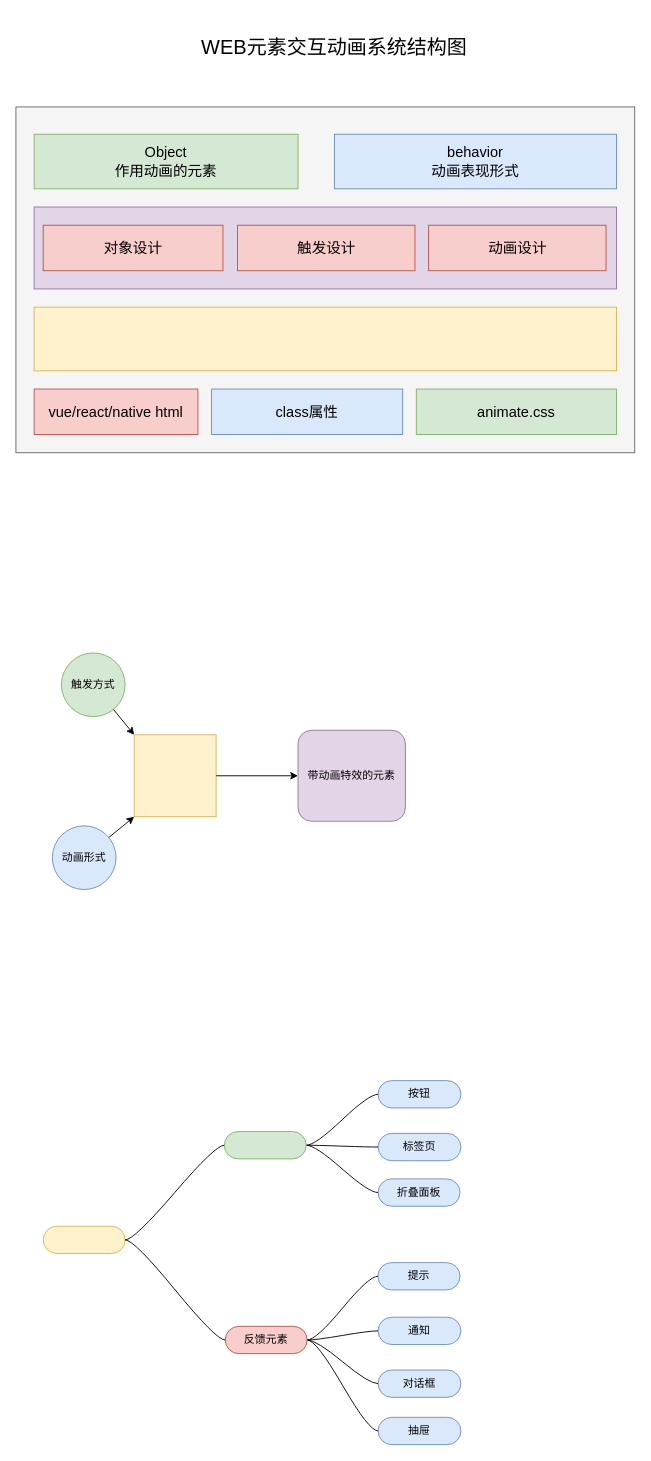
Image size: 651x1461. Some labels were removed from this diagram. The shapes that lost their labels are listed below. From the top down, each one's centre as x and y in pixels, then its label:
At pixel 325 338: "adapter 适配多种组件".
At pixel 174 775: "元素对象".
At pixel 264 1145: "操作元素".
At pixel 83 1239: "元素".
